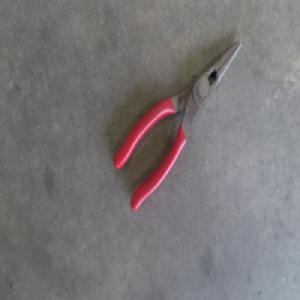Pliers: (113, 39, 242, 211)
